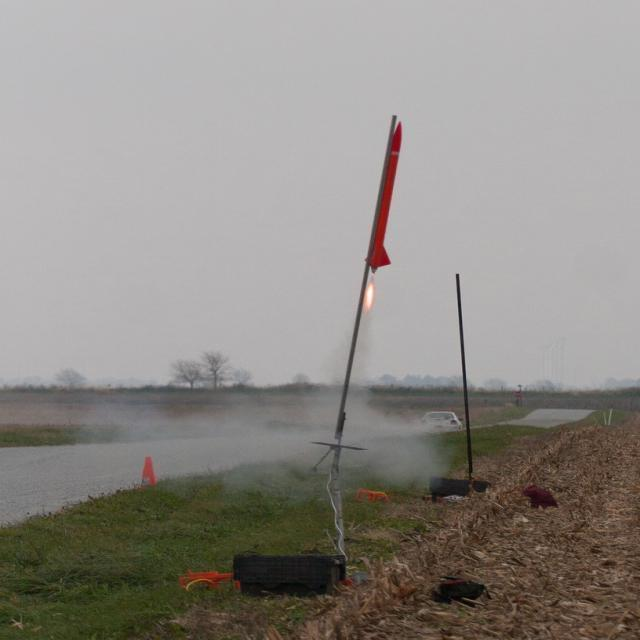Missile: (362, 105, 400, 272)
